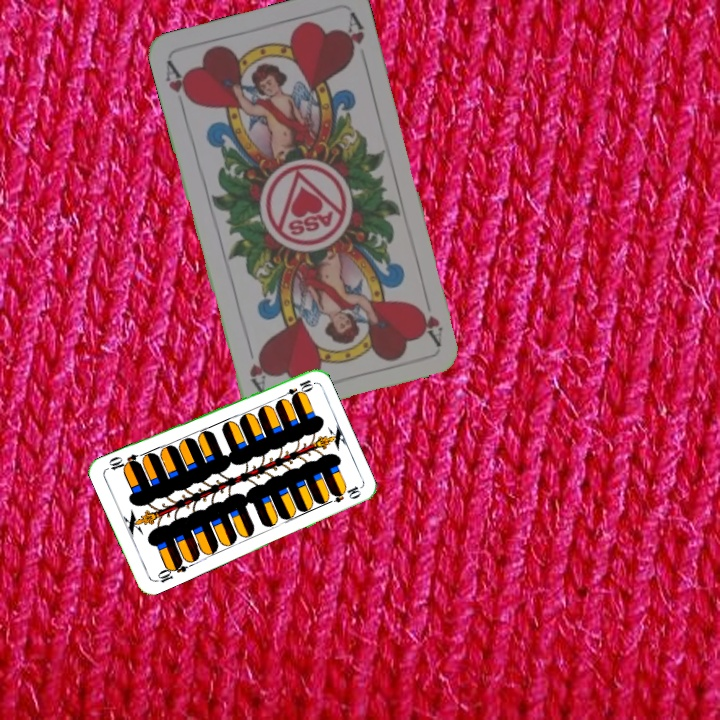E10: (151, 557, 190, 586), (276, 375, 315, 402)
HA: (161, 57, 196, 115), (414, 289, 446, 348)
